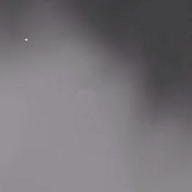Target: (24, 38, 29, 42)
